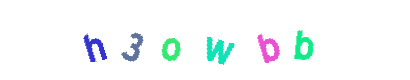3: (88, 0, 168, 80)
B: (193, 0, 273, 80), (228, 0, 308, 80)
H: (55, 0, 135, 80)
O: (165, 0, 245, 80)
W: (165, 0, 245, 80)
